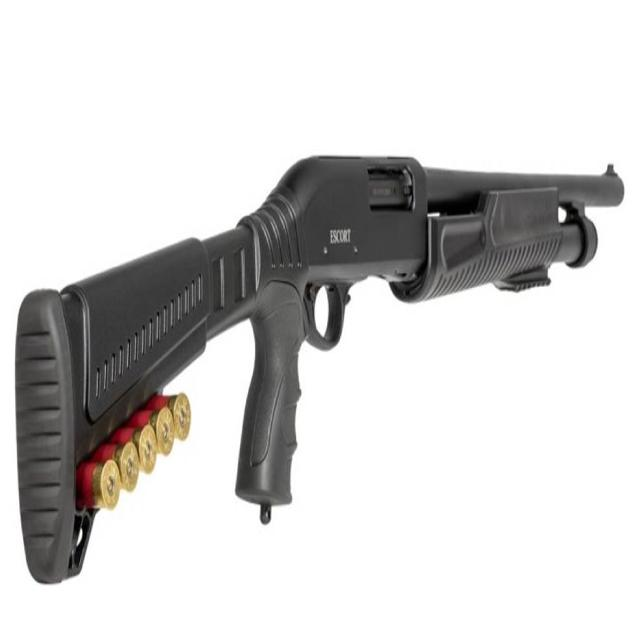ShotGun: (14, 156, 626, 588)
